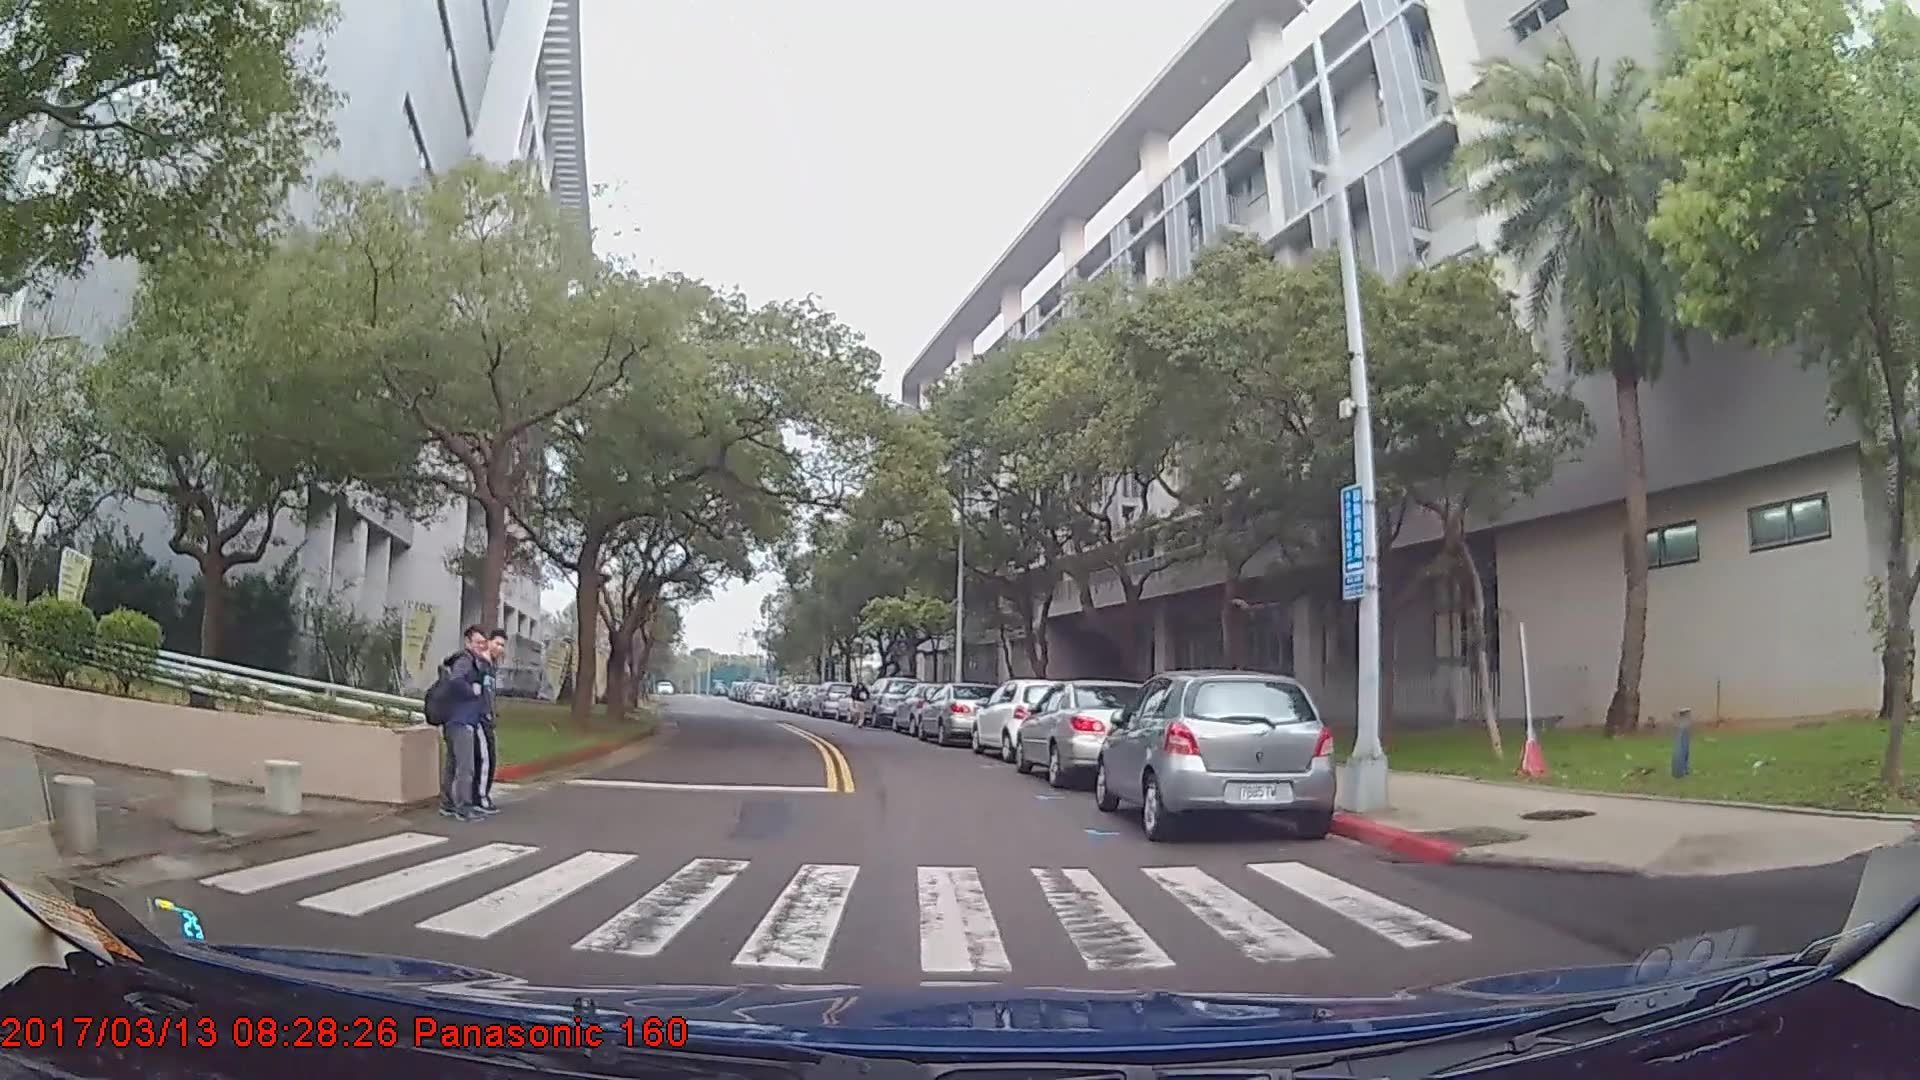pedestrian: (419, 627, 499, 829), (853, 674, 873, 730)
vehicle: (1095, 667, 1337, 841), (1015, 676, 1167, 786), (970, 676, 1075, 761), (917, 679, 1006, 745), (859, 672, 924, 724), (806, 679, 856, 716)
